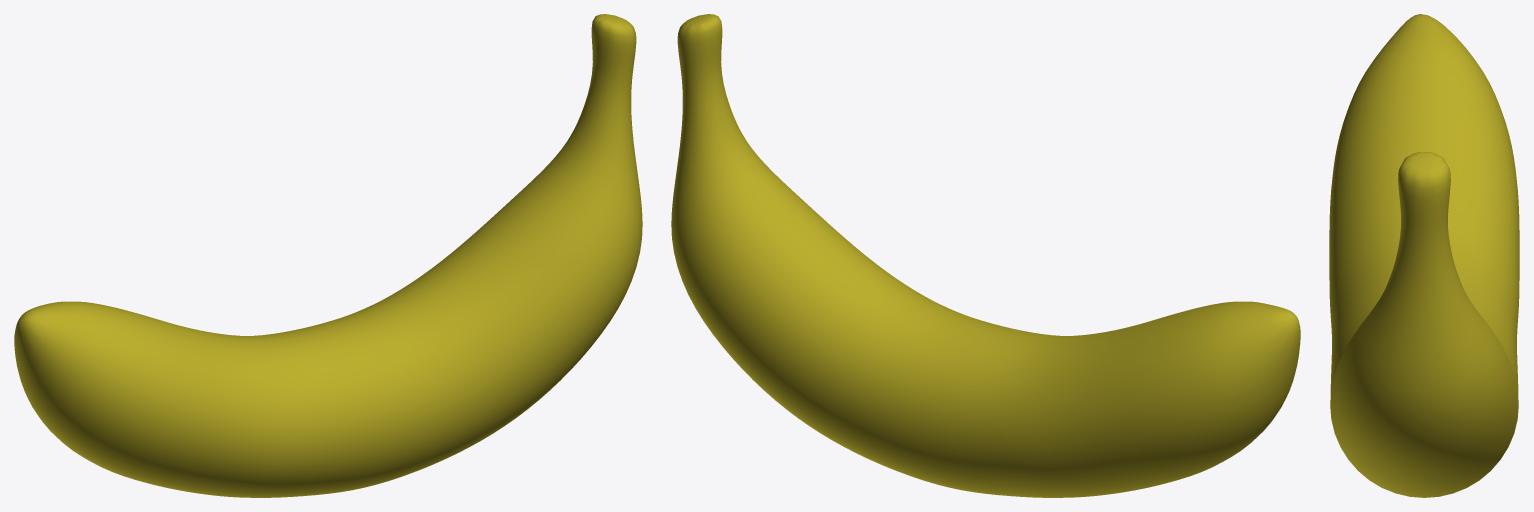
Rendered from Banana.fbx.
3 views of the same model, side by side, from view 1: azimuth 30°, elevation 25°; view 2: azimuth 150°, elevation 25°; view 3: azimuth 270°, elevation 25° (orthographic). The views are drawn at different scales.
Visible parts, largest first — view 1: nurbsToPoly1; view 2: nurbsToPoly1; view 3: nurbsToPoly1.
Part boxes in pixels (bbox=[...]): nurbsToPoly1: bbox=[14, 14, 642, 497]; nurbsToPoly1: bbox=[671, 14, 1300, 497]; nurbsToPoly1: bbox=[1329, 14, 1519, 497].
Bounding box in the file's own units: 2.83 × 1.76 × 0.692.
